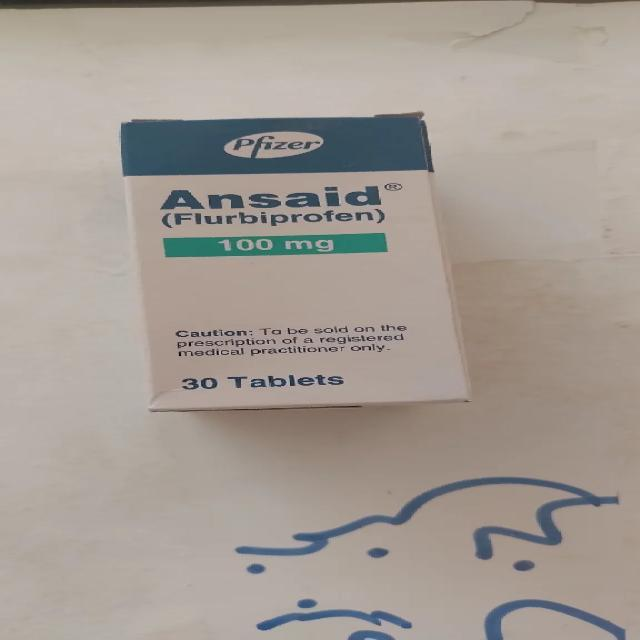drug-name: (156, 188, 387, 210)
